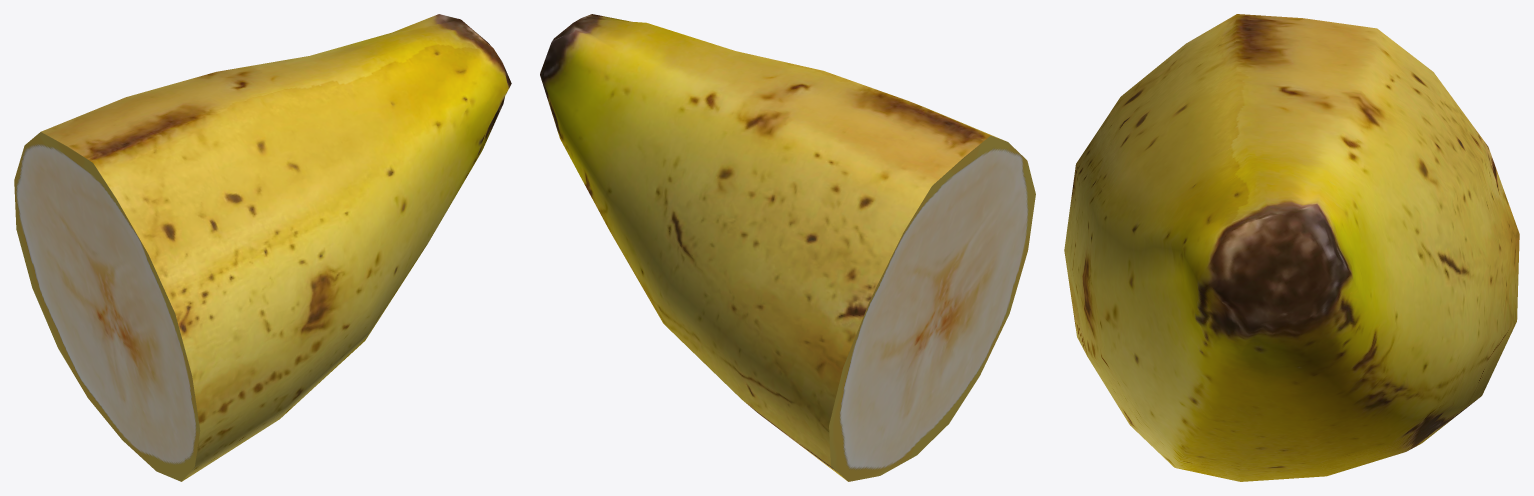
The model's file is BananaBonus_04.fbx.
3 views of the same model, side by side, from view 1: azimuth 30°, elevation 25°; view 2: azimuth 150°, elevation 25°; view 3: azimuth 270°, elevation 25° (orthographic). The views are drawn at different scales.
Visible parts, largest first — view 1: BananaBonus_04; view 2: BananaBonus_04; view 3: BananaBonus_04.
Boxes of the visible parts, x1,y1,x2,y2 form: BananaBonus_04: (14,14,511,481); BananaBonus_04: (540,14,1035,481); BananaBonus_04: (1064,14,1519,481).
Size of the model in its own units: 0.396 by 0.3279 by 0.2923.
Materials: 1 (1 with a texture image).
